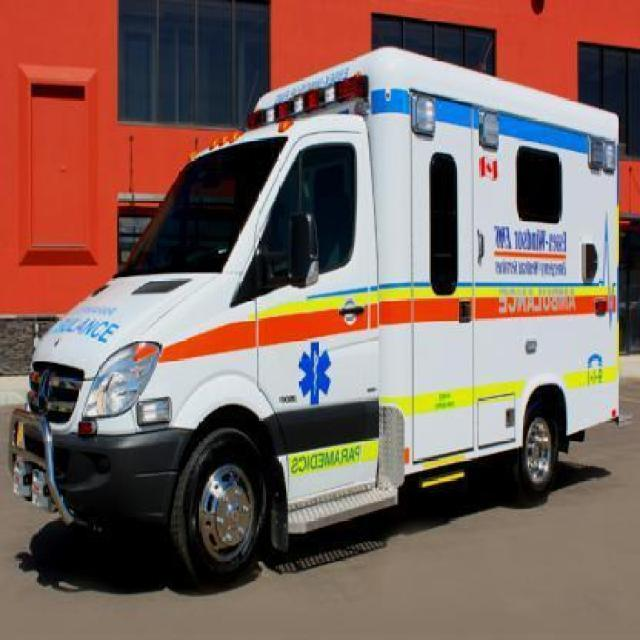emergency: (7, 42, 623, 586)
